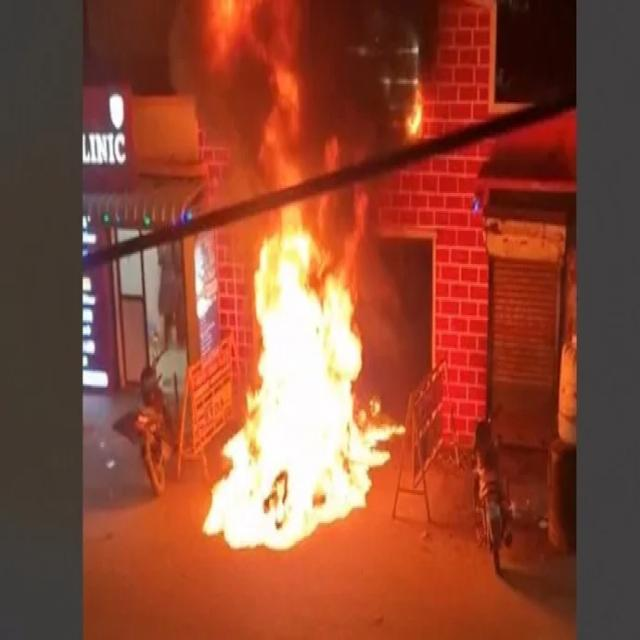fire: (203, 481, 373, 549), (255, 236, 322, 397), (246, 393, 352, 492), (320, 272, 362, 383), (353, 396, 405, 467), (223, 429, 248, 488)
